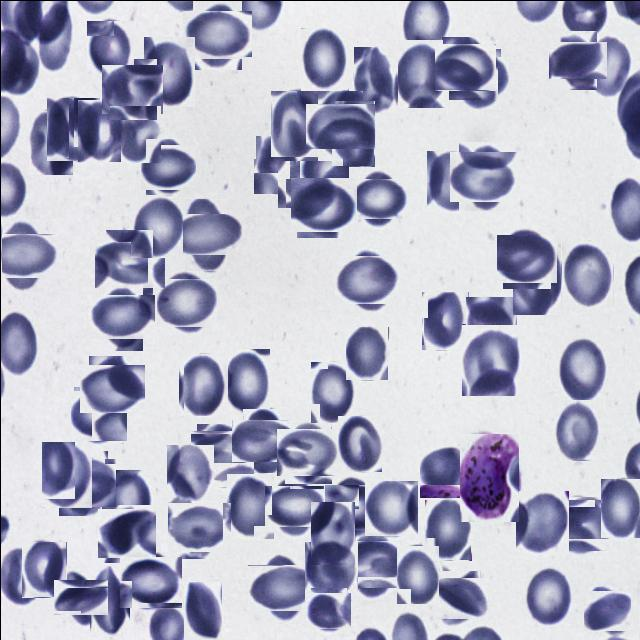gametocyte: (459, 433, 518, 521)
red blood cell: (461, 322, 519, 394), (512, 236, 560, 314), (390, 39, 444, 107), (293, 173, 353, 234), (282, 154, 342, 214), (143, 36, 194, 106), (453, 146, 512, 206), (561, 240, 613, 307), (556, 336, 608, 403), (187, 5, 246, 64), (253, 558, 312, 617), (46, 96, 100, 160), (99, 235, 158, 293), (41, 441, 92, 508), (515, 490, 568, 554), (339, 250, 397, 308), (130, 193, 182, 257), (176, 205, 234, 262), (311, 96, 368, 154), (426, 150, 478, 213), (54, 454, 111, 511), (270, 90, 319, 156), (522, 566, 572, 630), (170, 498, 227, 554), (122, 553, 178, 610), (91, 288, 148, 344), (84, 359, 140, 416), (226, 473, 274, 539), (178, 353, 228, 416), (342, 536, 398, 592), (304, 541, 357, 600), (193, 427, 249, 482), (103, 61, 159, 116), (498, 230, 554, 285), (222, 348, 269, 413), (280, 424, 335, 479), (554, 498, 610, 552), (300, 27, 348, 90), (158, 274, 212, 330), (364, 480, 418, 536), (0, 226, 52, 284), (437, 40, 492, 94), (465, 296, 516, 354), (99, 506, 153, 560), (586, 36, 633, 98), (109, 105, 160, 162), (424, 499, 471, 560), (72, 388, 125, 442), (89, 565, 129, 636), (353, 46, 396, 112), (331, 100, 374, 166), (28, 110, 72, 174), (237, 413, 290, 466), (420, 444, 472, 498), (554, 399, 600, 460), (310, 361, 355, 423), (421, 291, 468, 350), (310, 501, 354, 564), (104, 469, 152, 526), (166, 444, 213, 502), (253, 135, 299, 194), (452, 52, 504, 104), (326, 480, 378, 532), (77, 99, 120, 161), (142, 140, 192, 192), (86, 20, 134, 74), (268, 480, 318, 531), (396, 545, 439, 604), (21, 541, 66, 597), (337, 415, 381, 471), (434, 573, 484, 622), (344, 326, 388, 380), (600, 478, 640, 537), (354, 174, 402, 222), (554, 36, 602, 84), (183, 581, 221, 640), (58, 574, 102, 620), (585, 588, 629, 632), (307, 590, 348, 630)
